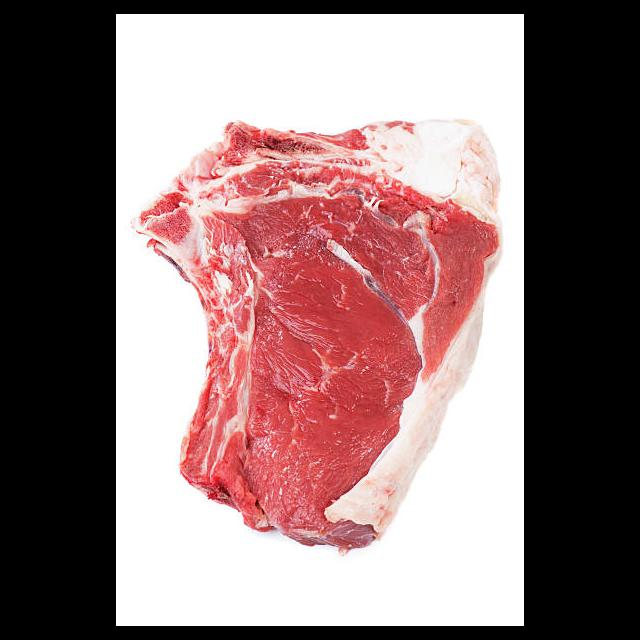beef: (131, 115, 505, 557)
